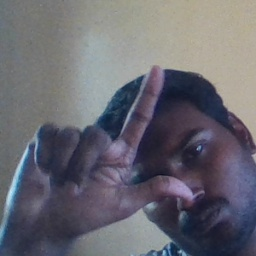L: (8, 64, 197, 238)
